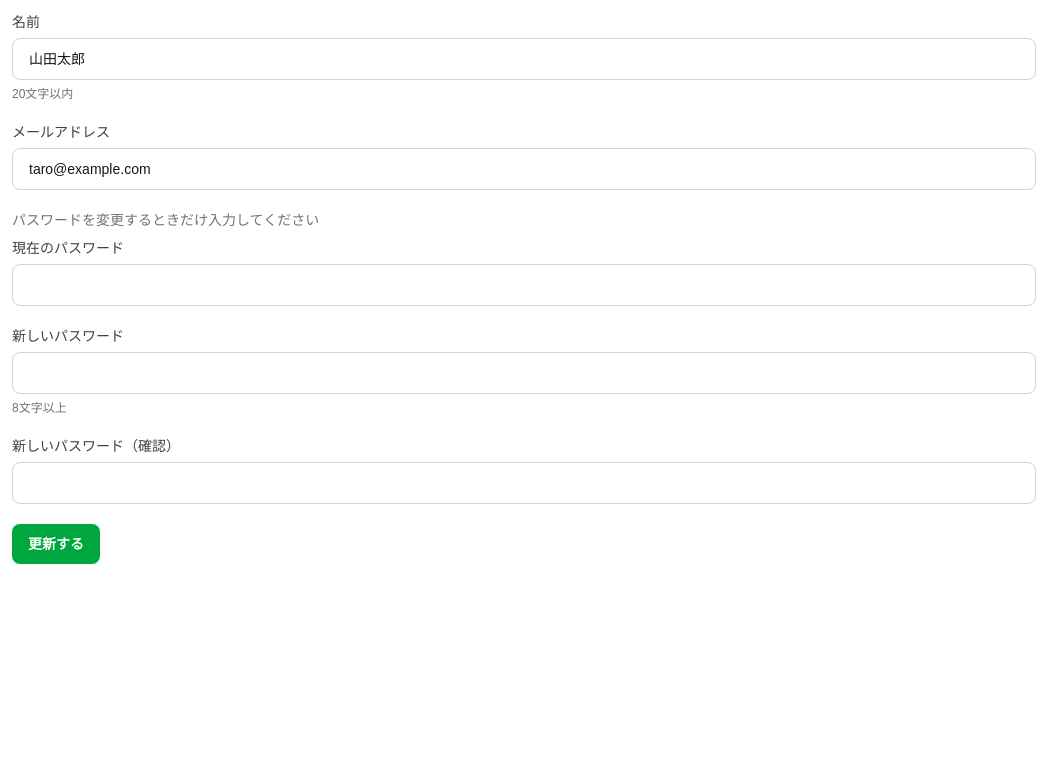
更新できたら「更新しました」を出し、パスワードの欄を空に戻し、ログイン中のユーザーも置き換える
The width and height of the screenshot is (1048, 780).
Step 1. Replace the text in the field labelled "名前" with "山田花子" → (524,59), box [12,38,1036,80]
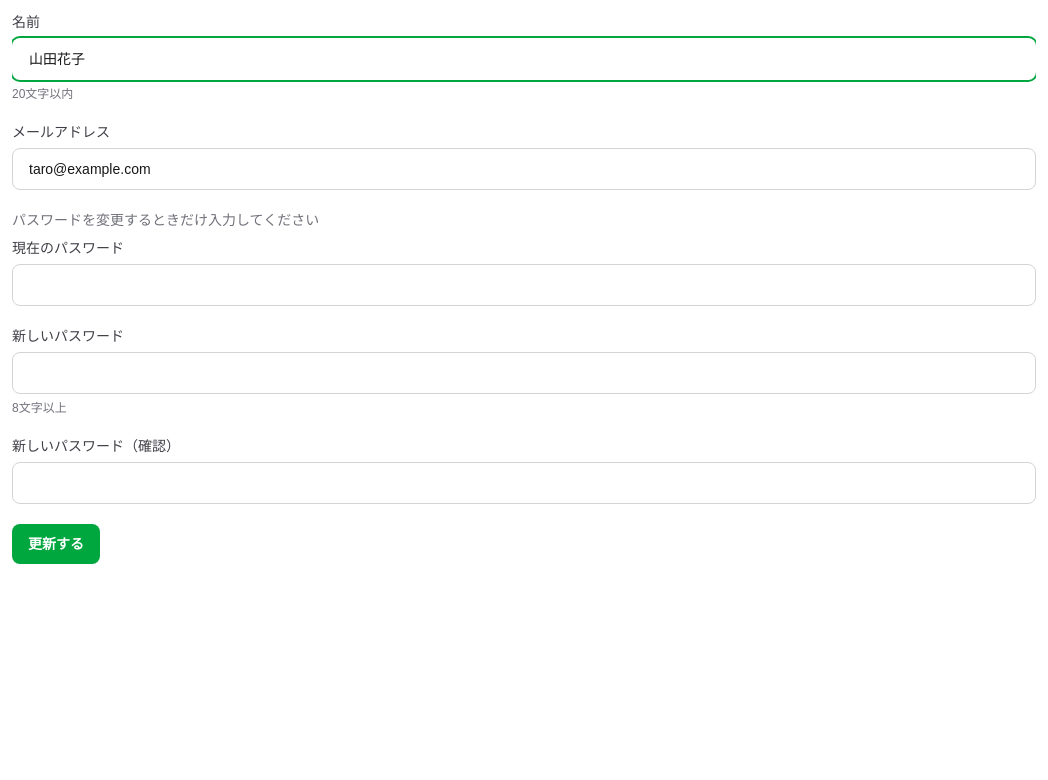
Step 2. Type "password" into the password field labelled "現在のパスワード" → (524,285), box [12,264,1036,306]
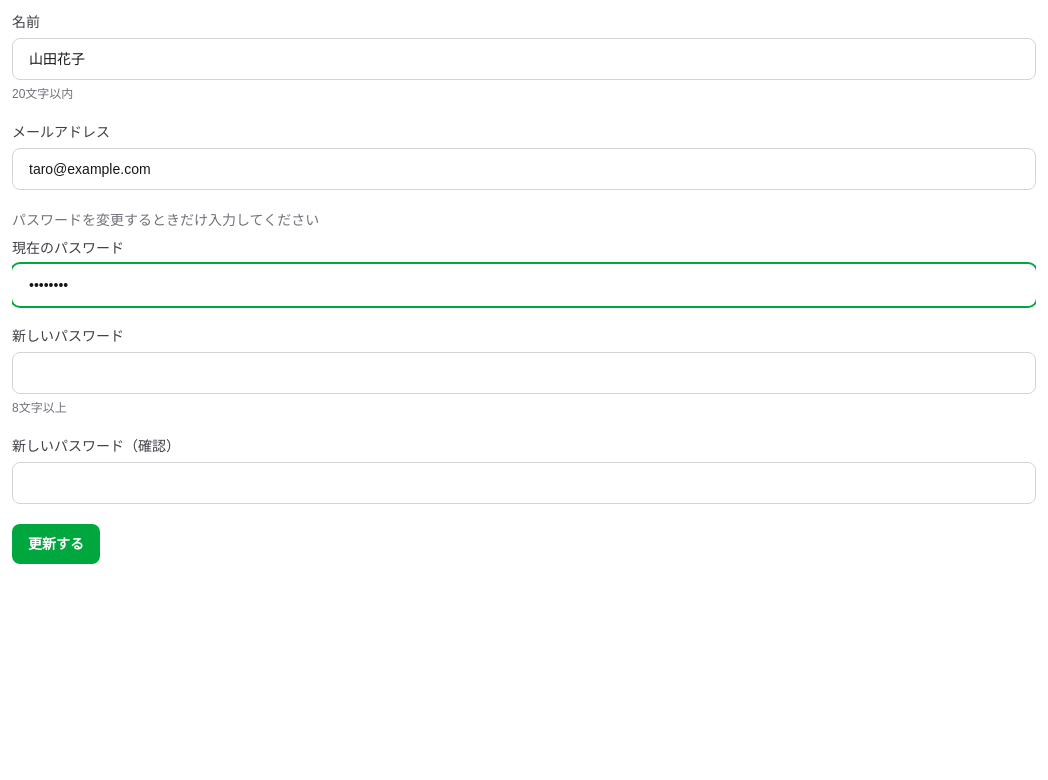
Step 3. Type "newpassword" into the password field labelled "新しいパスワード" → (524,373), box [12,352,1036,394]
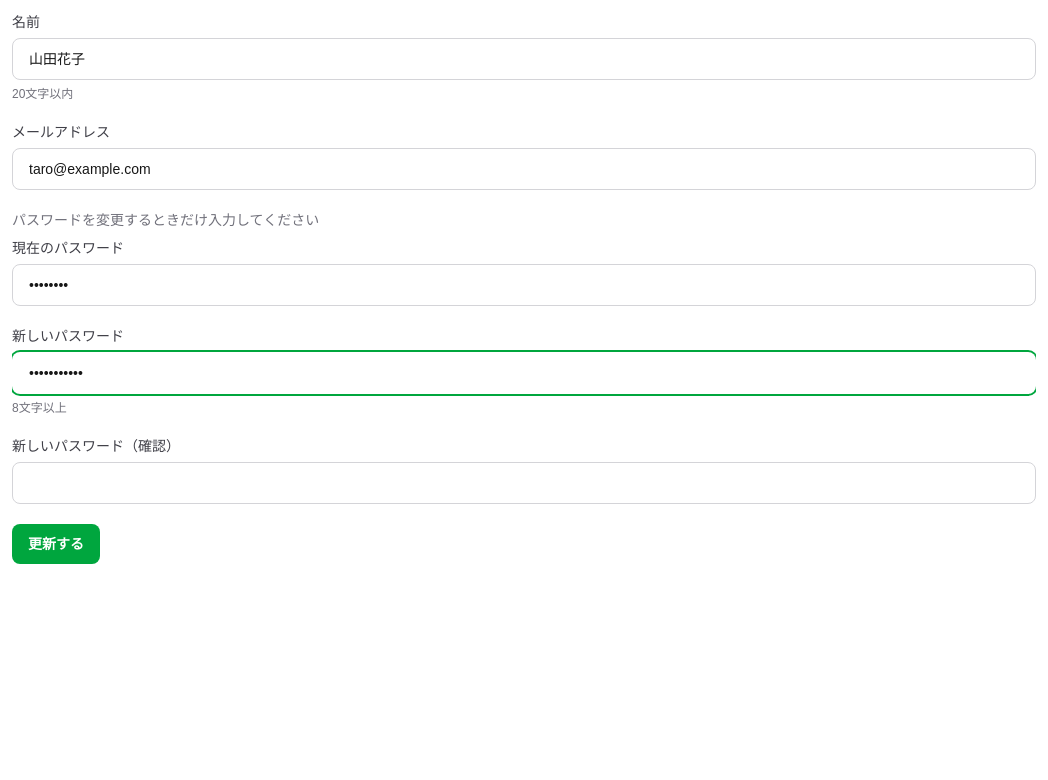
Step 4. Type "newpassword" into the password field labelled "新しいパスワード（確認）" → (524,483), box [12,462,1036,504]
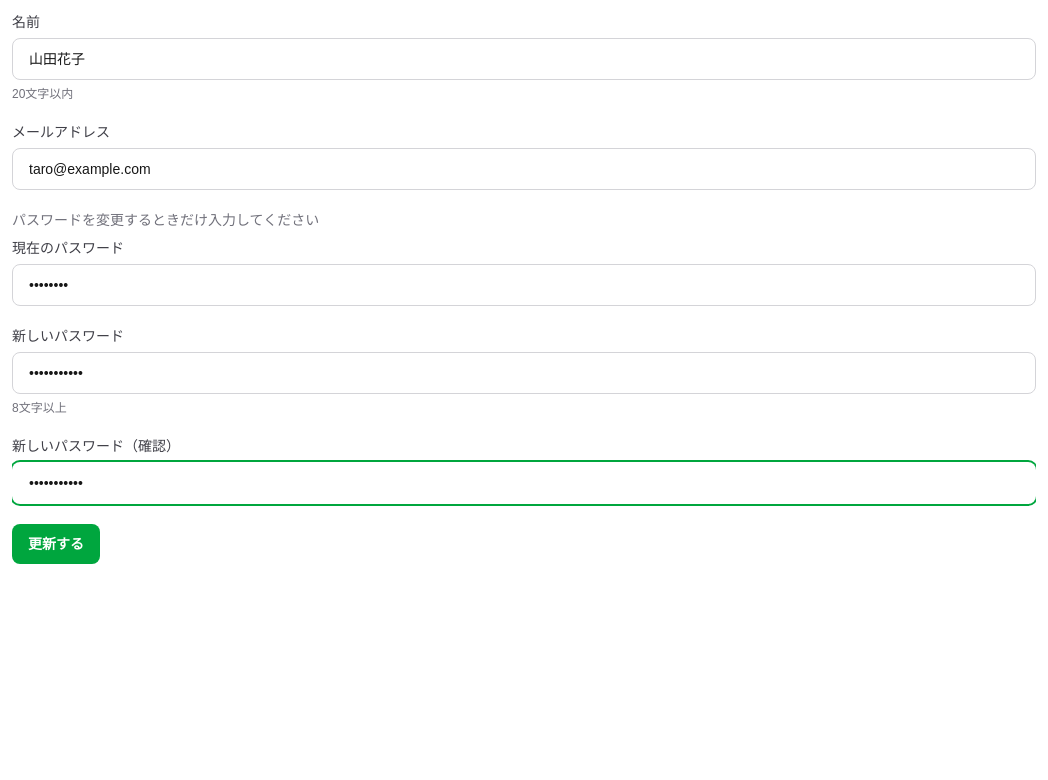
Step 5. Click the button "更新する" → (56,544), box [12,524,100,564]
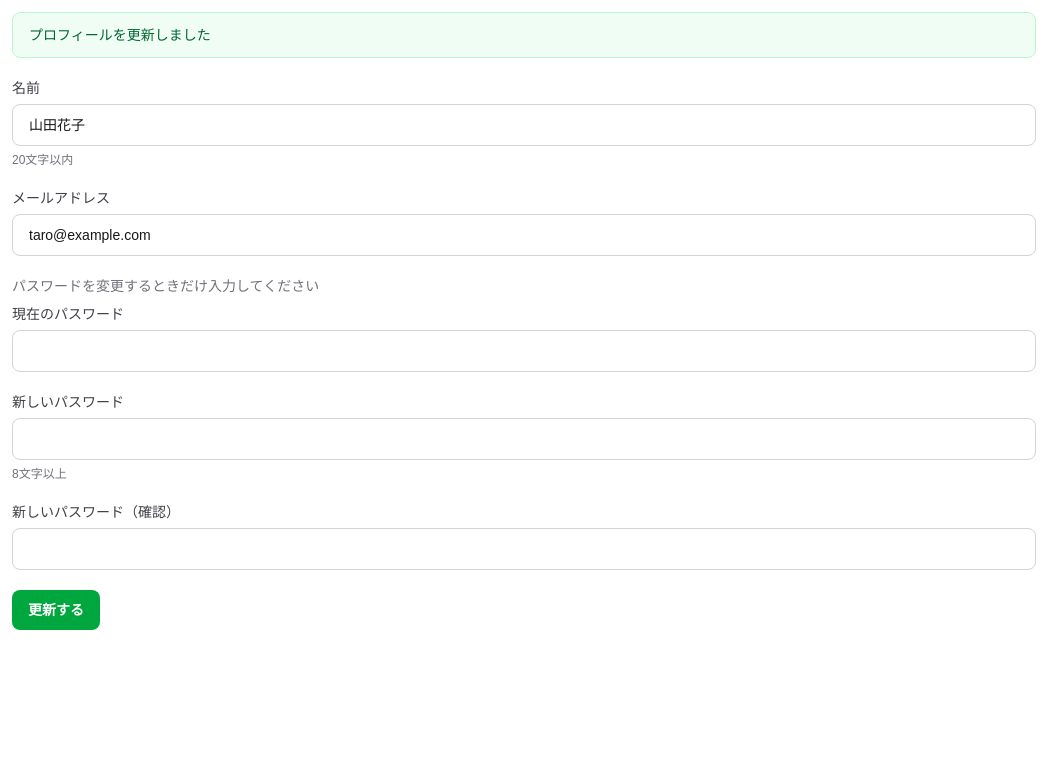
Now the text "プロフィールを更新しました" is shown, box [12,12,1036,58]
Step 6. Type "子" into the field labelled "名前" → (524,125), box [12,104,1036,146]
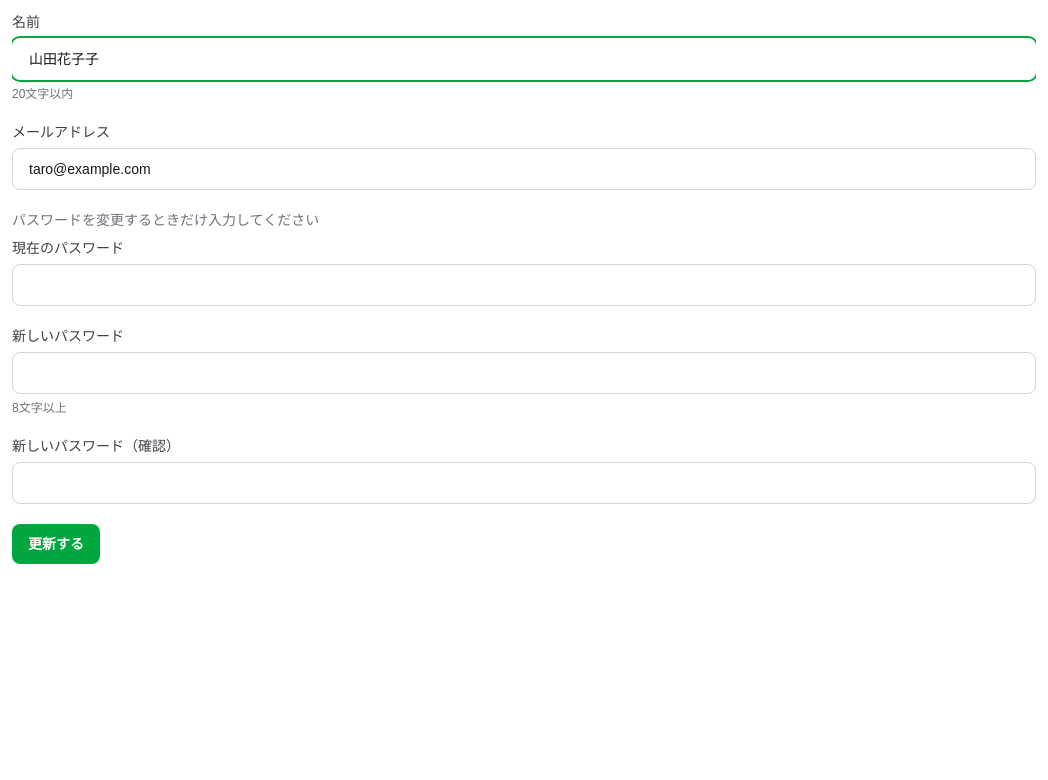
Now the text "プロフィールを更新しました" is gone
